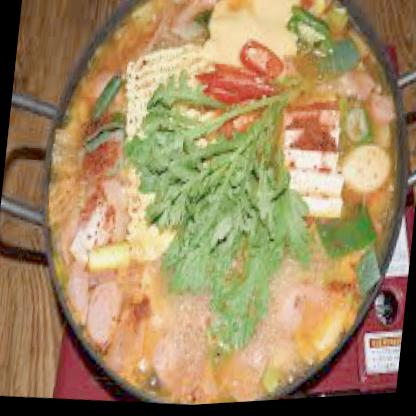budaejjigae: (31, 0, 415, 414)
